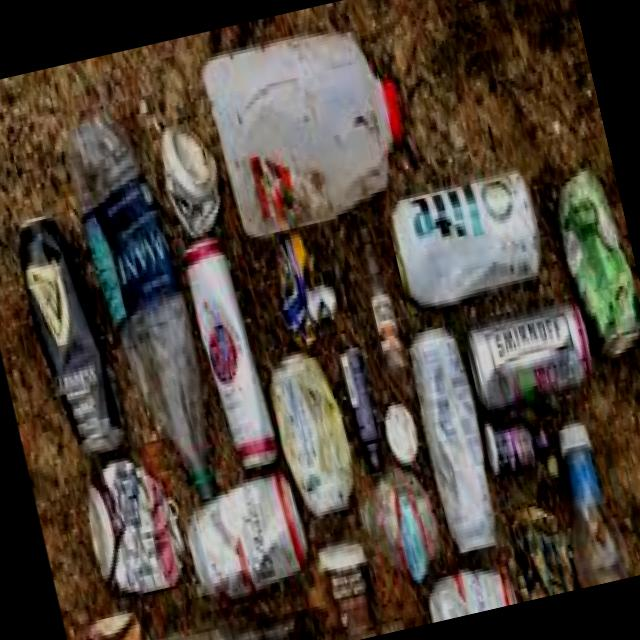Recycle: (58, 102, 232, 512), (199, 14, 423, 238), (9, 208, 132, 464), (180, 233, 282, 478), (382, 170, 550, 314), (550, 164, 640, 364), (461, 297, 602, 419), (180, 478, 314, 604), (156, 117, 228, 235), (354, 222, 409, 375), (335, 338, 391, 468), (421, 556, 527, 623), (555, 412, 609, 514), (482, 412, 556, 481)
Trash: (73, 446, 195, 604), (354, 463, 448, 584), (379, 399, 424, 464)
